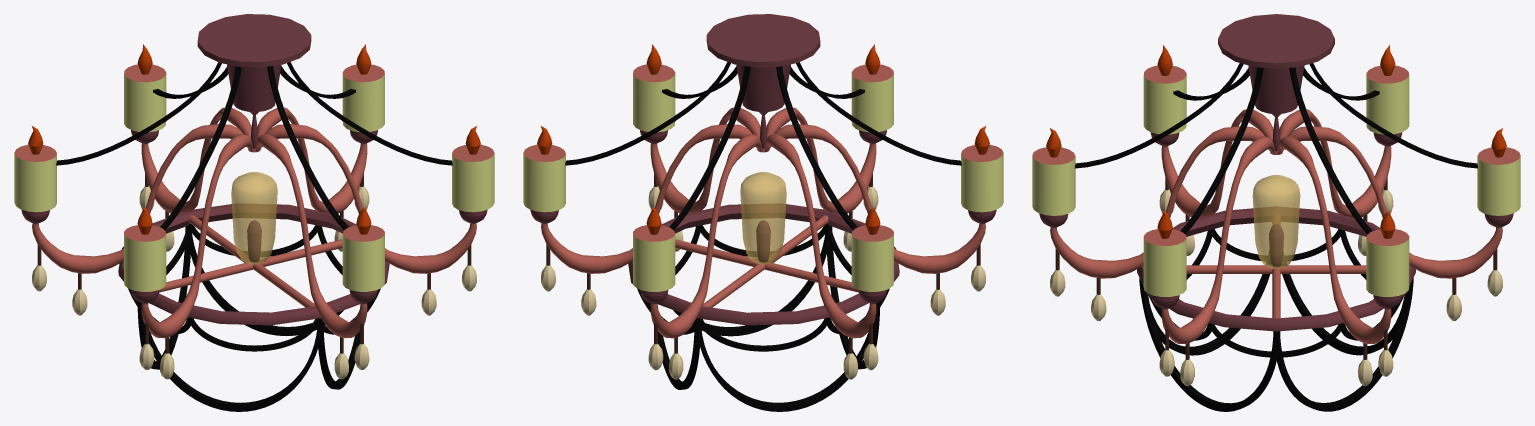
Rendered from lamp.fbx.
3 renders of one model, left to right at view 1: azimuth 30°, elevation 25°; view 2: azimuth 150°, elevation 25°; view 3: azimuth 270°, elevation 25°, orthographic.
Visible parts, largest first — view 1: Circle.001, Circle, Circle.019, Circle.007, Circle.026, Circle.027, Circle.008, Circle.025, Cylinder.001, Cylinder, Cylinder.002; view 2: Circle.001, Circle, Circle.019, Circle.007, Circle.026, Circle.027, Circle.008, Circle.025, Cylinder.001, Cylinder, Cylinder.002; view 3: Circle.001, Circle, Circle.026, Circle.019, Circle.007, Circle.027, Circle.008, Circle.025, Cylinder, Cylinder.002, Cylinder.001.
Boxes of the visible parts, x1,y1,x2,y2 form: Circle.001: [14, 44, 494, 338]; Circle: [197, 14, 311, 152]; Circle.019: [56, 62, 452, 229]; Circle.007: [118, 204, 389, 325]; Circle.026: [137, 226, 364, 411]; Circle.027: [32, 173, 476, 379]; Circle.008: [231, 172, 277, 264]; Circle.025: [128, 223, 380, 351]; Cylinder.001: [159, 239, 342, 292]; Cylinder: [189, 215, 314, 307]; Cylinder.002: [247, 220, 261, 262]; Circle.001: [523, 44, 1003, 338]; Circle: [706, 14, 820, 152]; Circle.019: [565, 62, 961, 230]; Circle.007: [628, 204, 899, 325]; Circle.026: [657, 226, 880, 411]; Circle.027: [541, 174, 985, 379]; Circle.008: [740, 172, 786, 264]; Circle.025: [637, 223, 889, 351]; Cylinder.001: [675, 239, 858, 292]; Cylinder: [703, 215, 828, 307]; Cylinder.002: [756, 220, 770, 262]; Circle.001: [1032, 45, 1520, 344]; Circle: [1218, 14, 1334, 154]; Circle.026: [1139, 253, 1413, 411]; Circle.019: [1075, 63, 1477, 234]; Circle.007: [1137, 207, 1415, 331]; Circle.027: [1050, 178, 1502, 386]; Circle.008: [1252, 175, 1300, 268]; Circle.025: [1149, 229, 1403, 357]; Cylinder: [1186, 265, 1366, 273]; Cylinder.002: [1269, 224, 1283, 266]; Cylinder.001: [1272, 213, 1280, 318].
Bounding box in the file's own units: 697 × 611 × 795.
